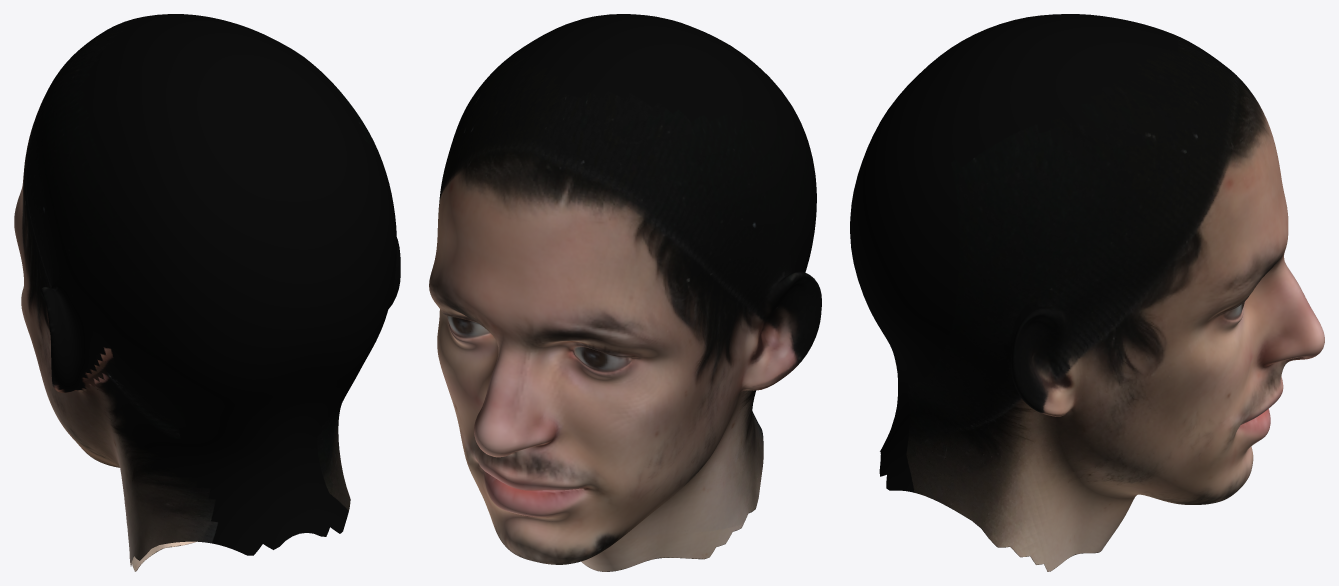
3 views of the same model, side by side, from view 1: azimuth 30°, elevation 25°; view 2: azimuth 150°, elevation 25°; view 3: azimuth 270°, elevation 25° (orthographic). The views are drawn at different scales.
Parts seen in each view (by area): view 1: FaceBuilderHead.001; view 2: FaceBuilderHead.001; view 3: FaceBuilderHead.001.
Part boxes in pixels (left/top/right/bottom): FaceBuilderHead.001: left=14, top=14, right=400, bottom=571; FaceBuilderHead.001: left=429, top=14, right=821, bottom=571; FaceBuilderHead.001: left=850, top=14, right=1324, bottom=571.
Size of the model in its own units: 1.7 by 2.43 by 2.03.
1 material, 1 textured.
